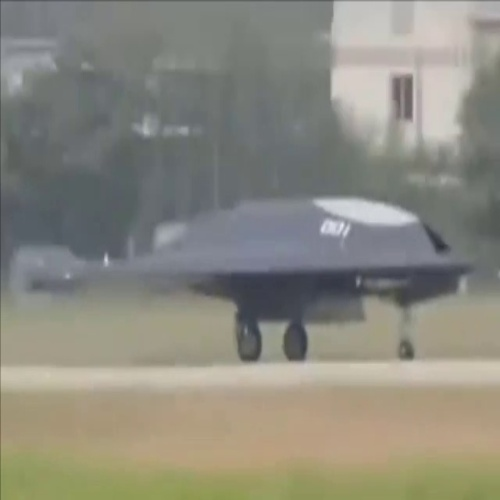uav1058: (19, 191, 477, 364)
